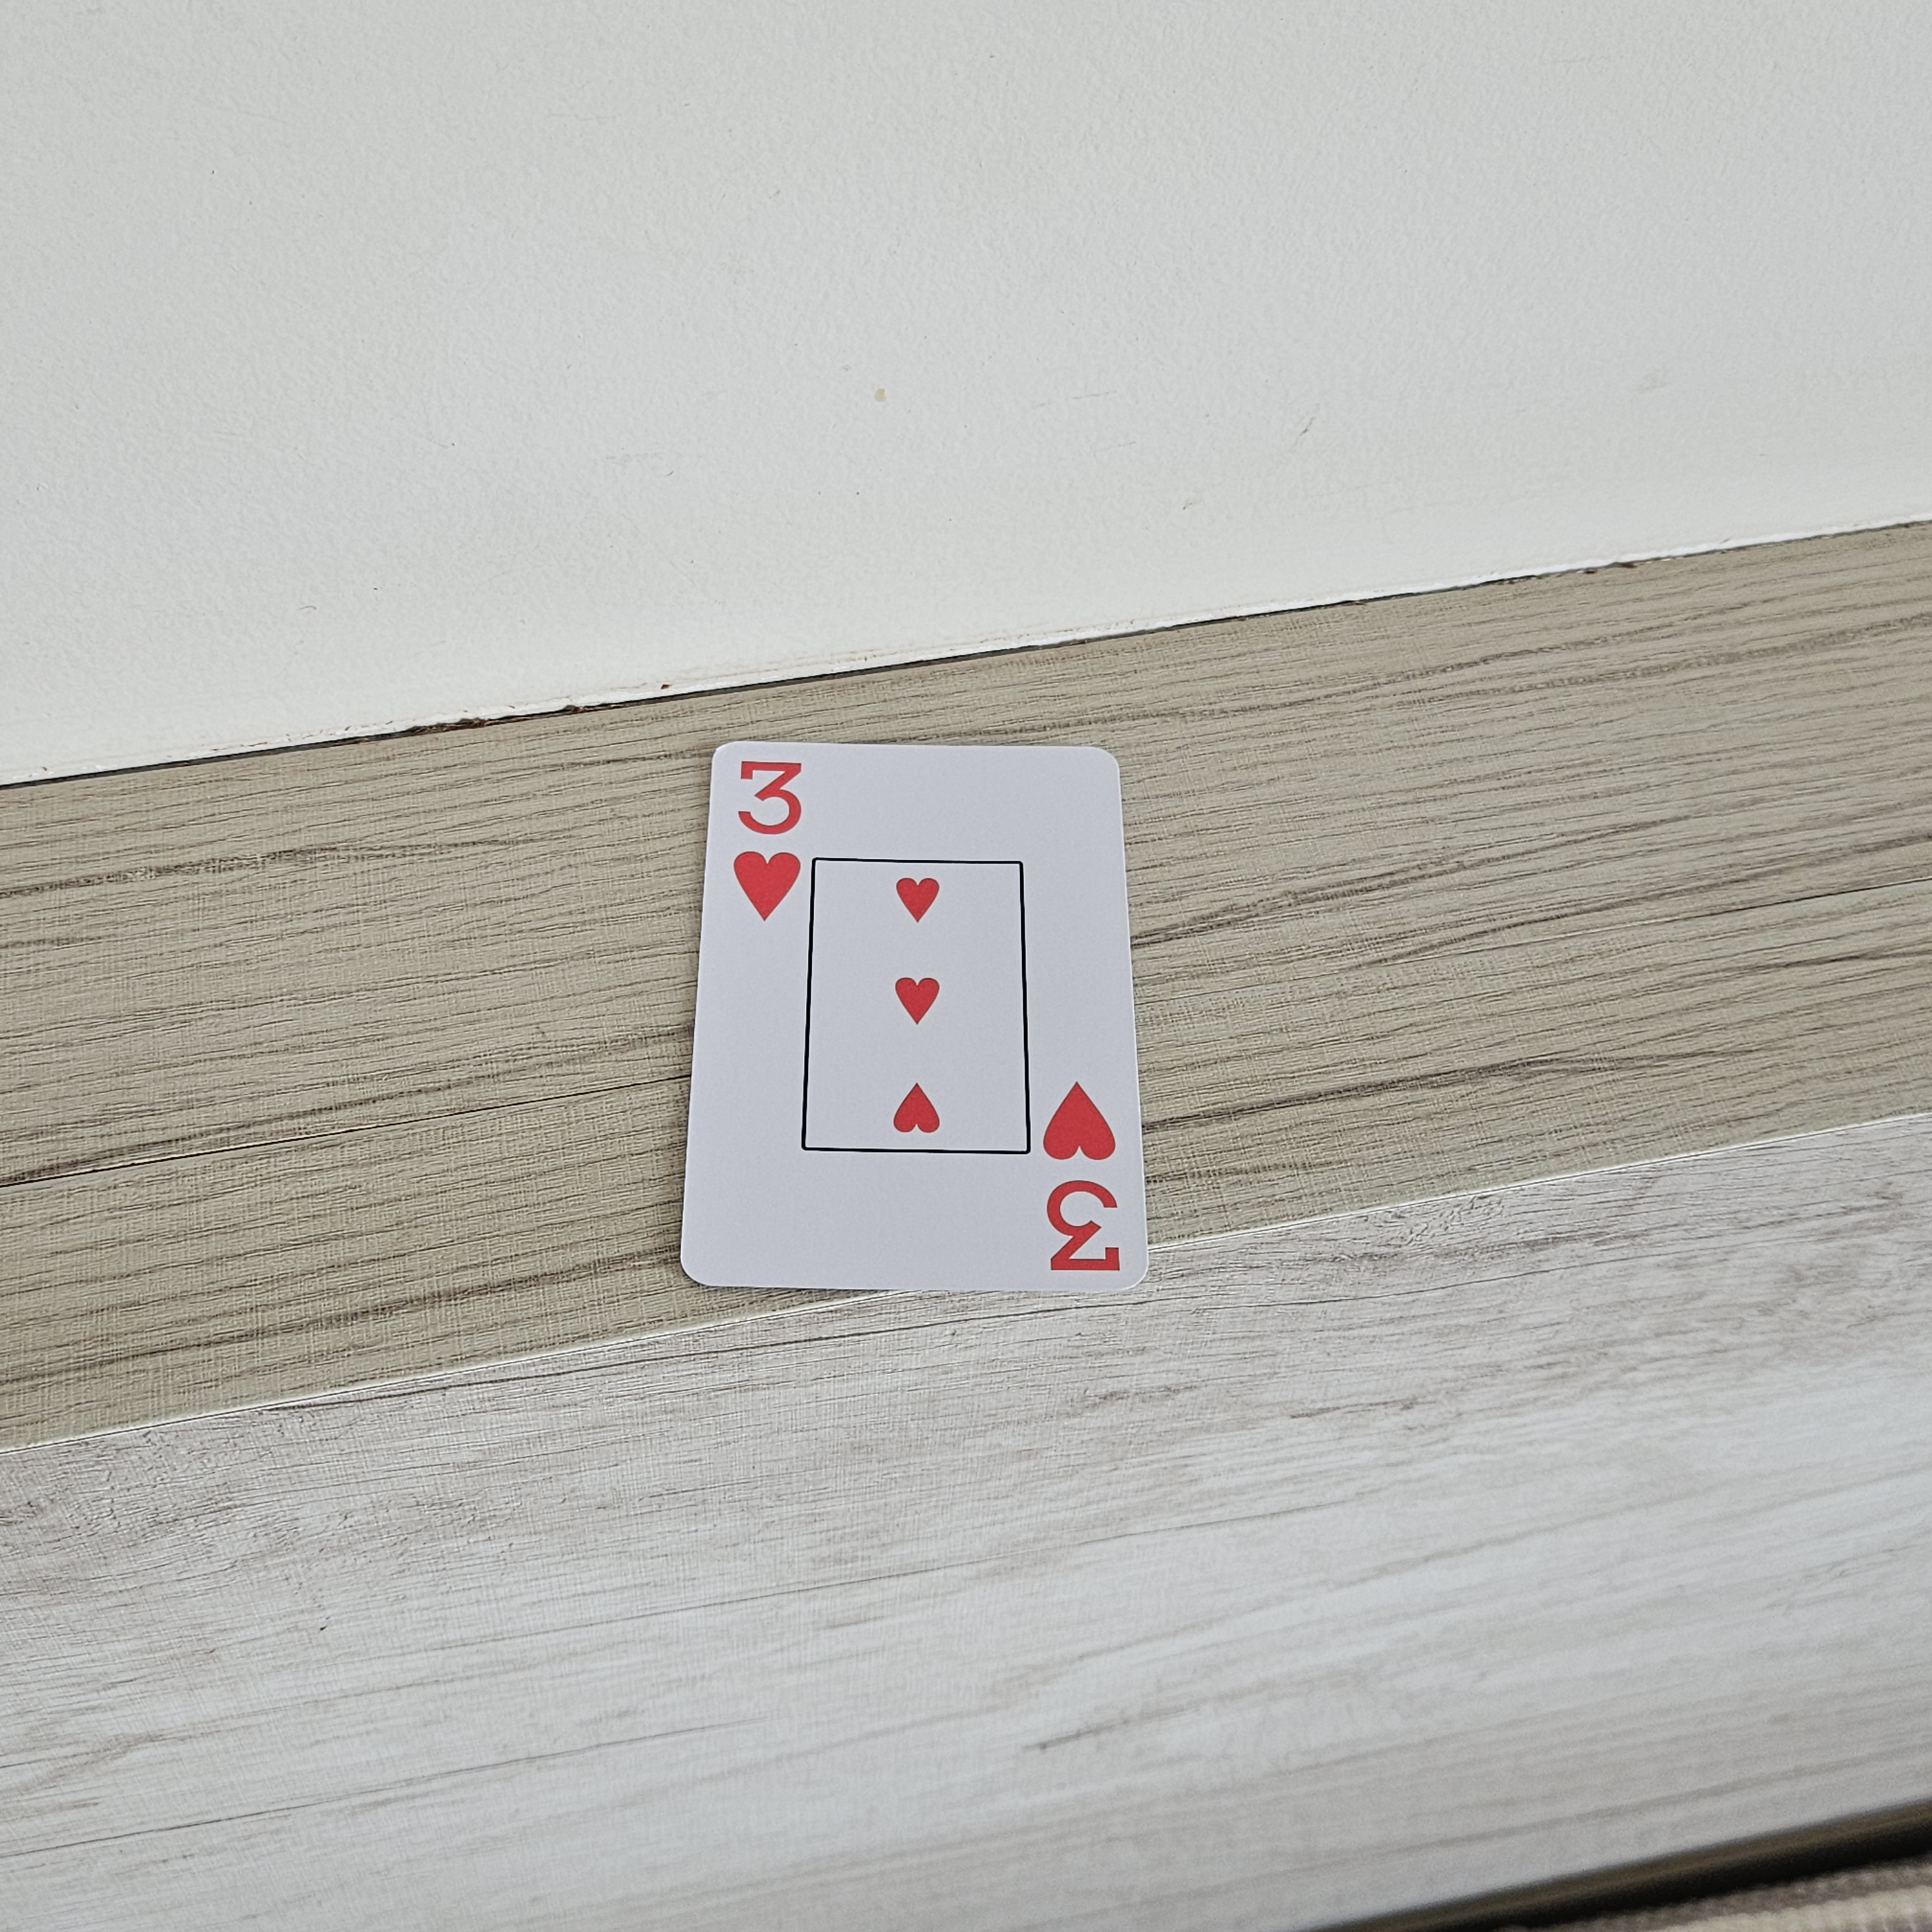3C: (1033, 1070, 1127, 1277), (725, 748, 807, 929)
